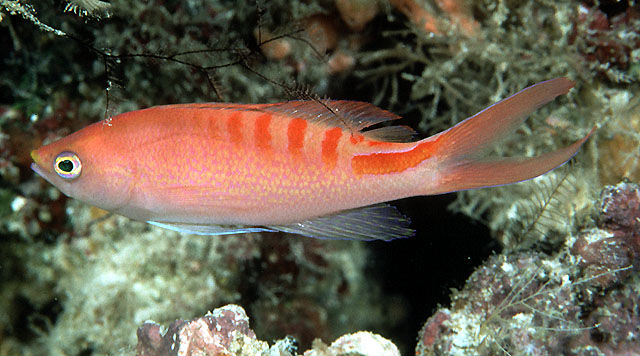fish: (30, 77, 597, 242)
